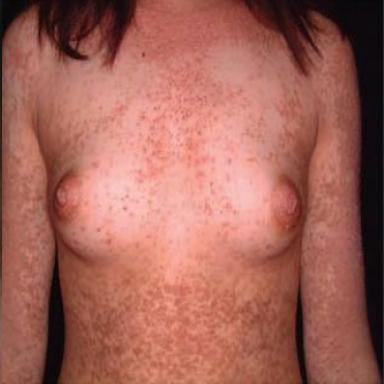Darier_s-Disease: (2, 3, 379, 382)
